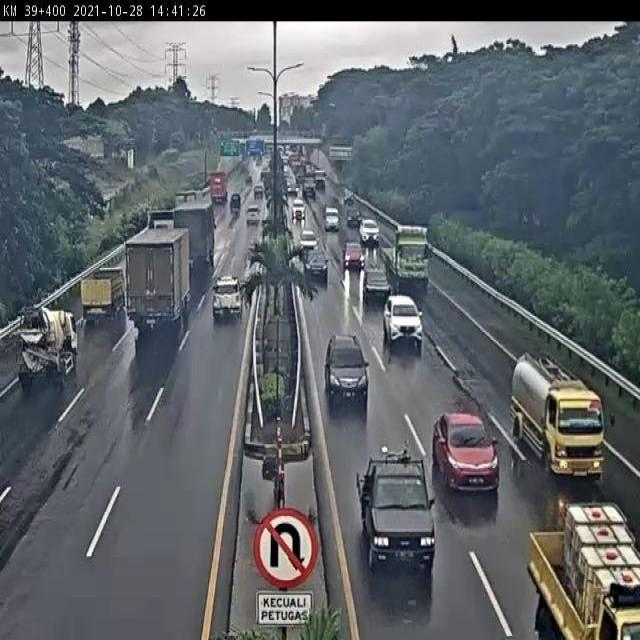big truck: (134, 208, 176, 252)
car: (431, 411, 500, 493), (323, 334, 369, 406), (383, 294, 424, 346), (213, 276, 242, 317), (362, 270, 392, 306), (304, 250, 328, 286), (342, 241, 365, 271)
mid truck: (124, 226, 191, 322), (173, 203, 216, 264)
small truck: (355, 445, 436, 572), (79, 268, 125, 323)
truck-l-: (379, 222, 431, 286)
truck-m-: (510, 351, 606, 481), (14, 304, 82, 387)
